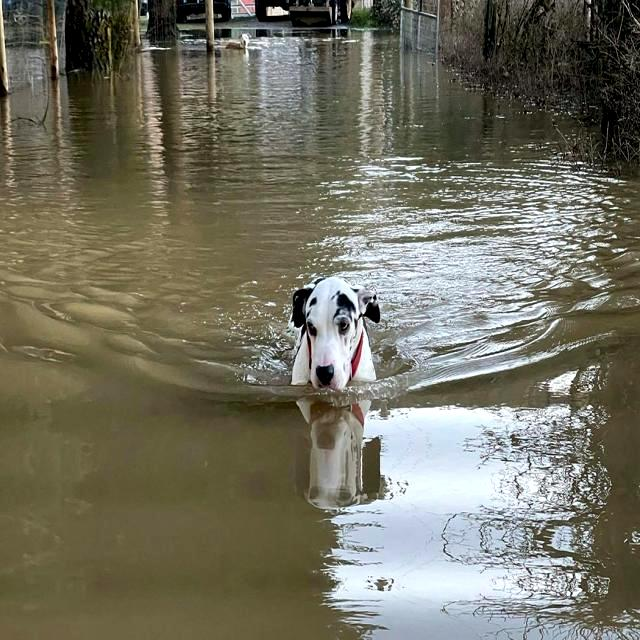dog: (286, 270, 390, 402)
